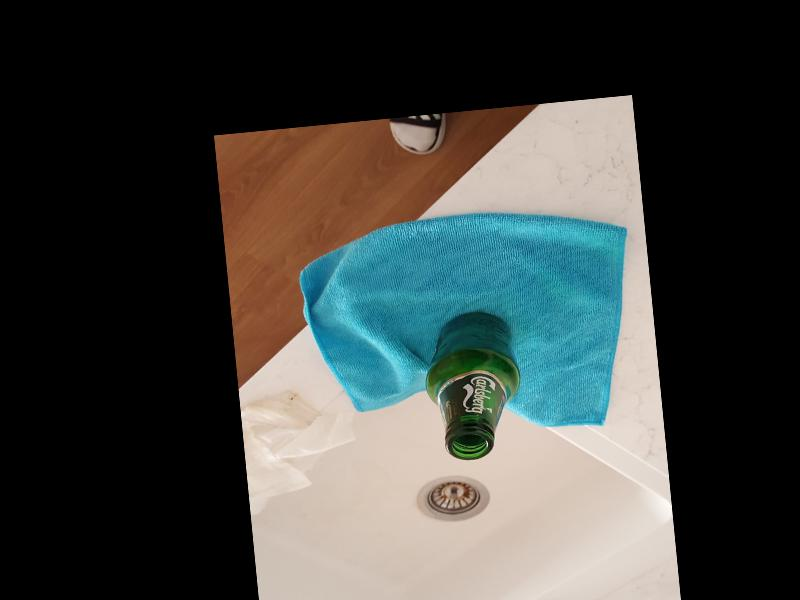Beer: (418, 307, 523, 462)
